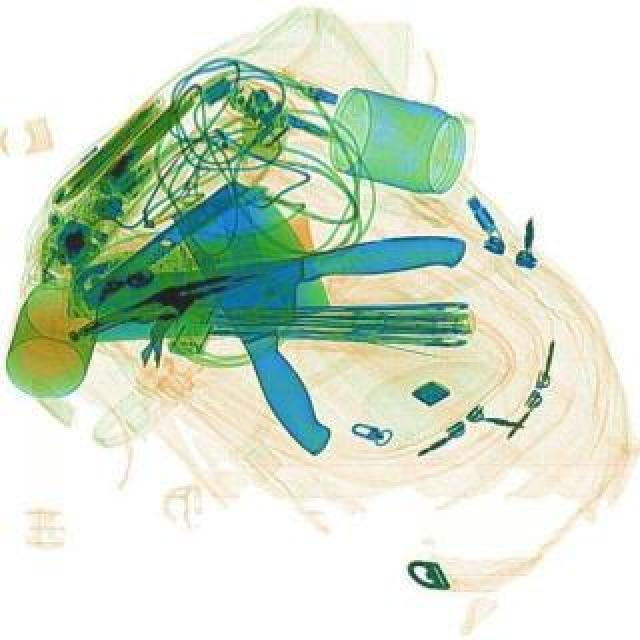knife: (166, 168, 392, 460), (84, 230, 472, 344)
